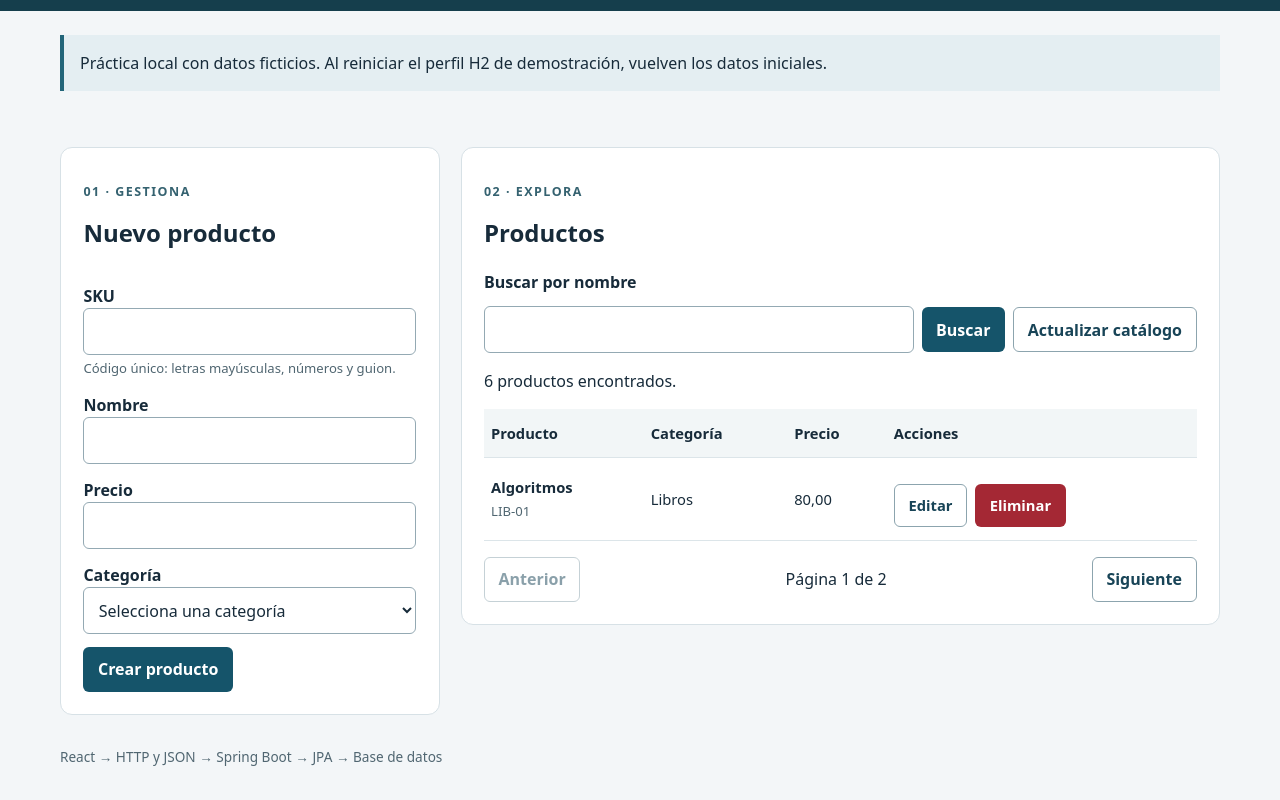
Scenario: retrocede si se elimina el último producto de la última página
(page scrolled)
expect the button with aria-label "Editar Algoritmos" is shown: met, box [894,484,967,527]
What coordinates should you click on to do the following:
click the button "Siguiente"
I would click on:
 (1144, 579)
Its box is [1092,557,1197,602].
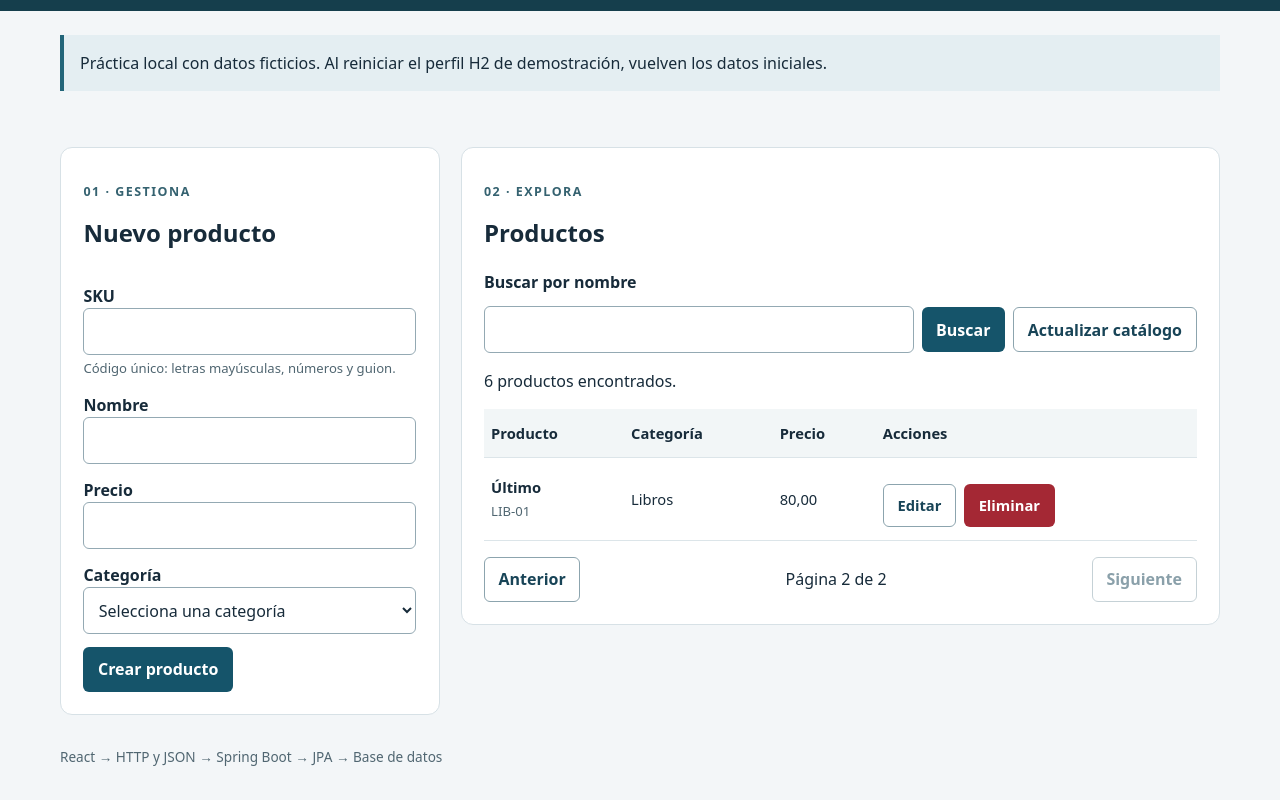
expect the button with aria-label "Eliminar Último" is shown: met
What coordinates should you click on to do the following:
click the button with aria-label "Eliminar Último"
I would click on:
 (1009, 505)
Its box is [964,484,1055,527].
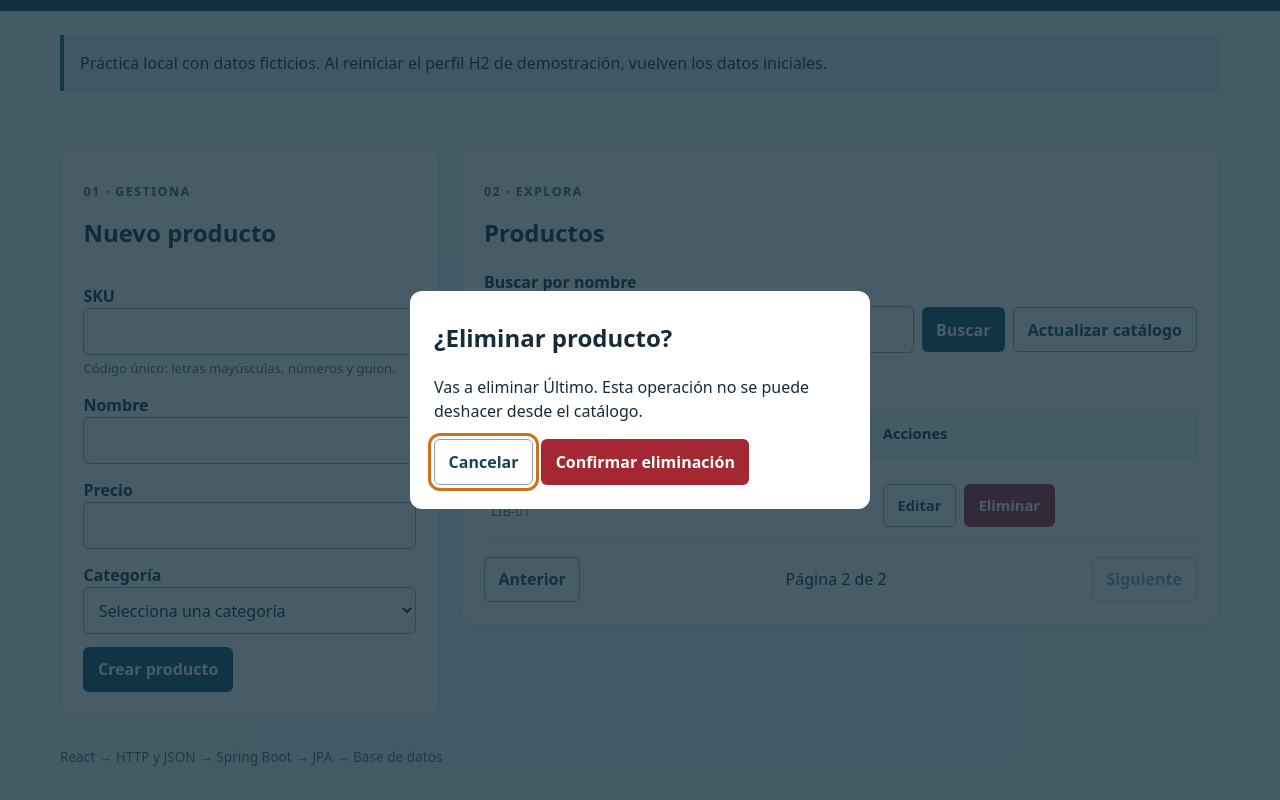
What coordinates should you click on to do the following:
click the button "Confirmar eliminación"
I would click on:
 (645, 462)
Its box is [541,439,749,485].
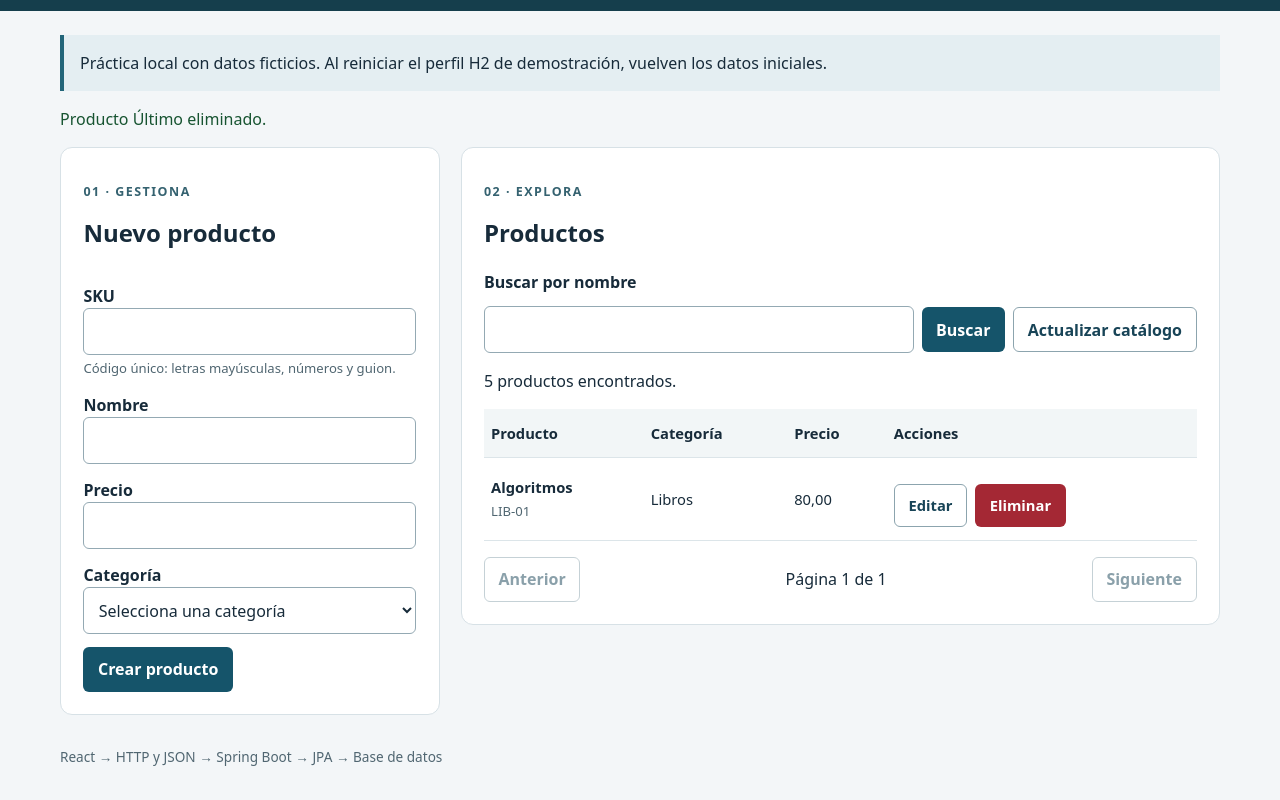
expect the text "Página 1 de 1" is shown: met, box [786,567,887,591]
